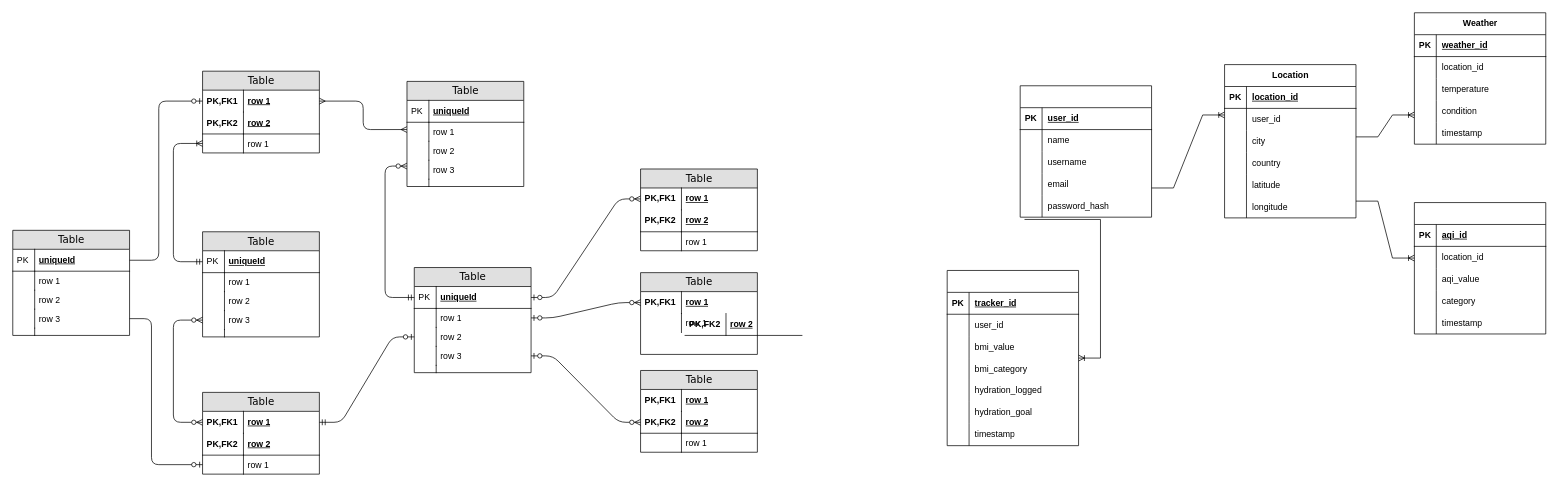
This 1559x489 diagram has some shape labels left out. The shapes that lost their labels are listed below. From the top down, each one's box as (x1, y1, x2, y2) in pixels, then its label:
(1019, 85, 1152, 217): Users
(1414, 202, 1546, 334): Air Quality
(946, 270, 1079, 446): Health Tracker
